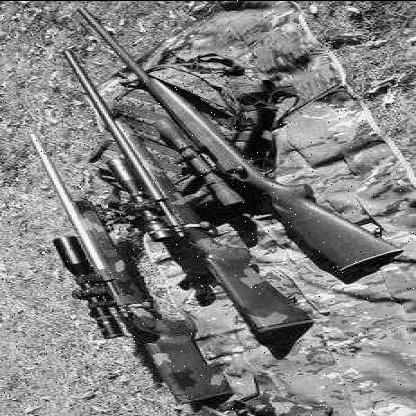rifle: (79, 5, 396, 271), (49, 49, 322, 336), (18, 131, 222, 410)
